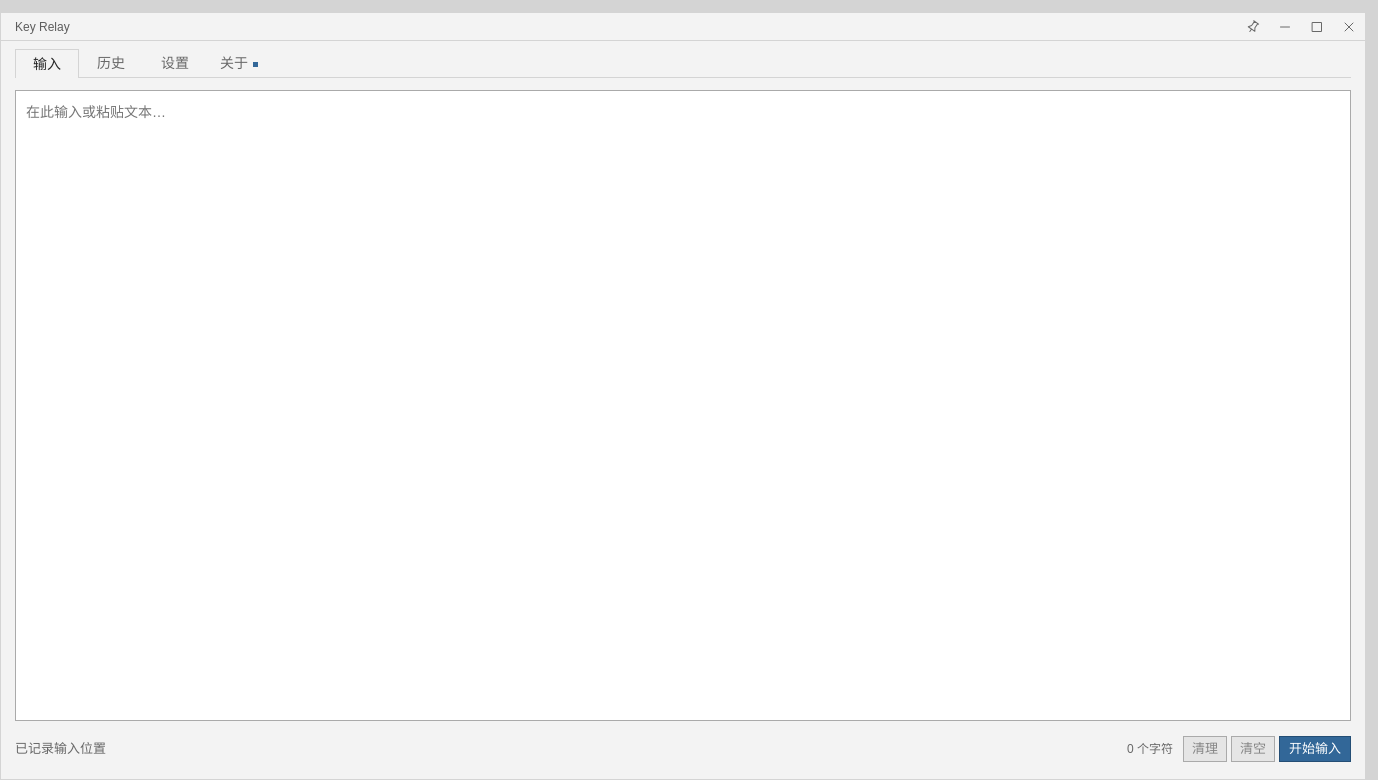
Test: editor and native task integration › stops installation if valid settings cannot be persisted
Expected: the button "开始输入" is enabled, [1279, 736, 1351, 762]
Click the tab "关于" at x=239, y=63, box [207, 49, 271, 77]
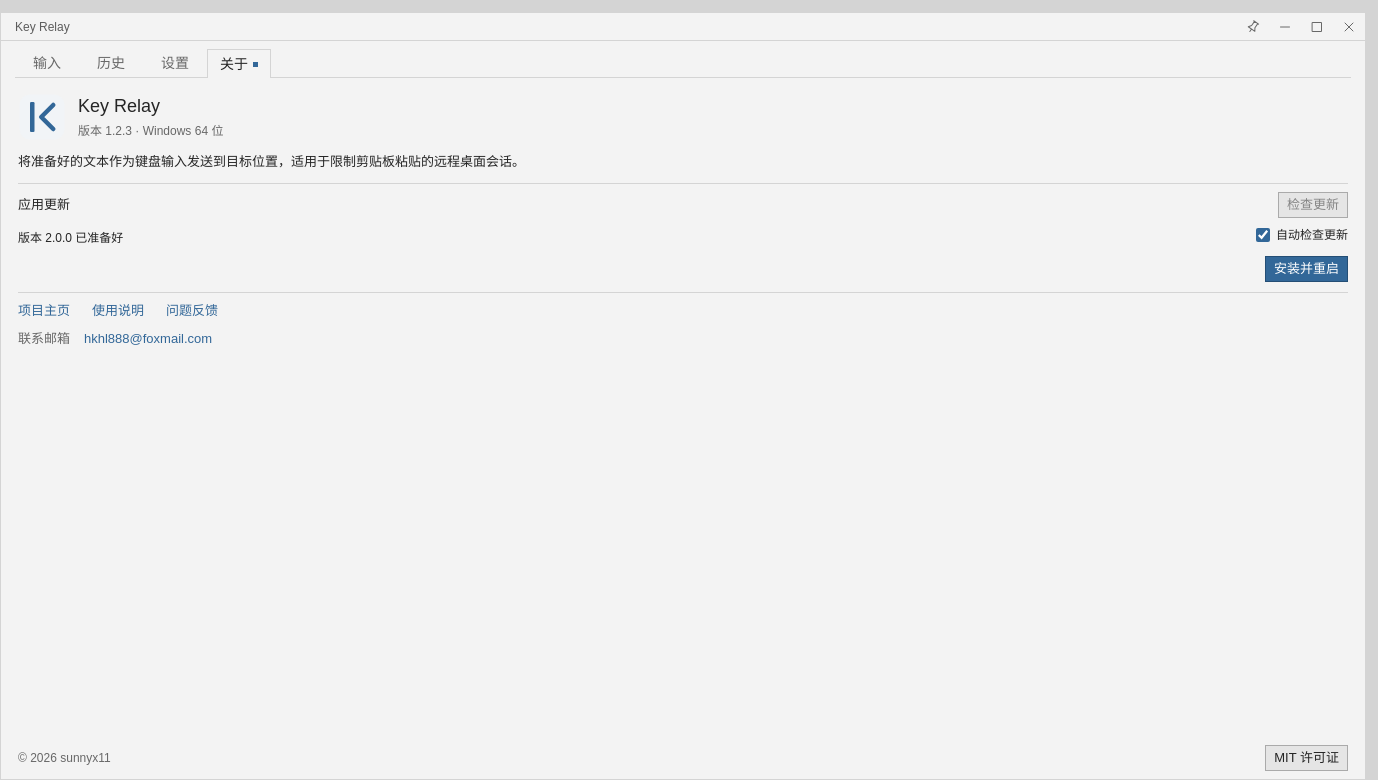
Click the button "安装并重启" at x=1306, y=270, box [1265, 256, 1348, 282]
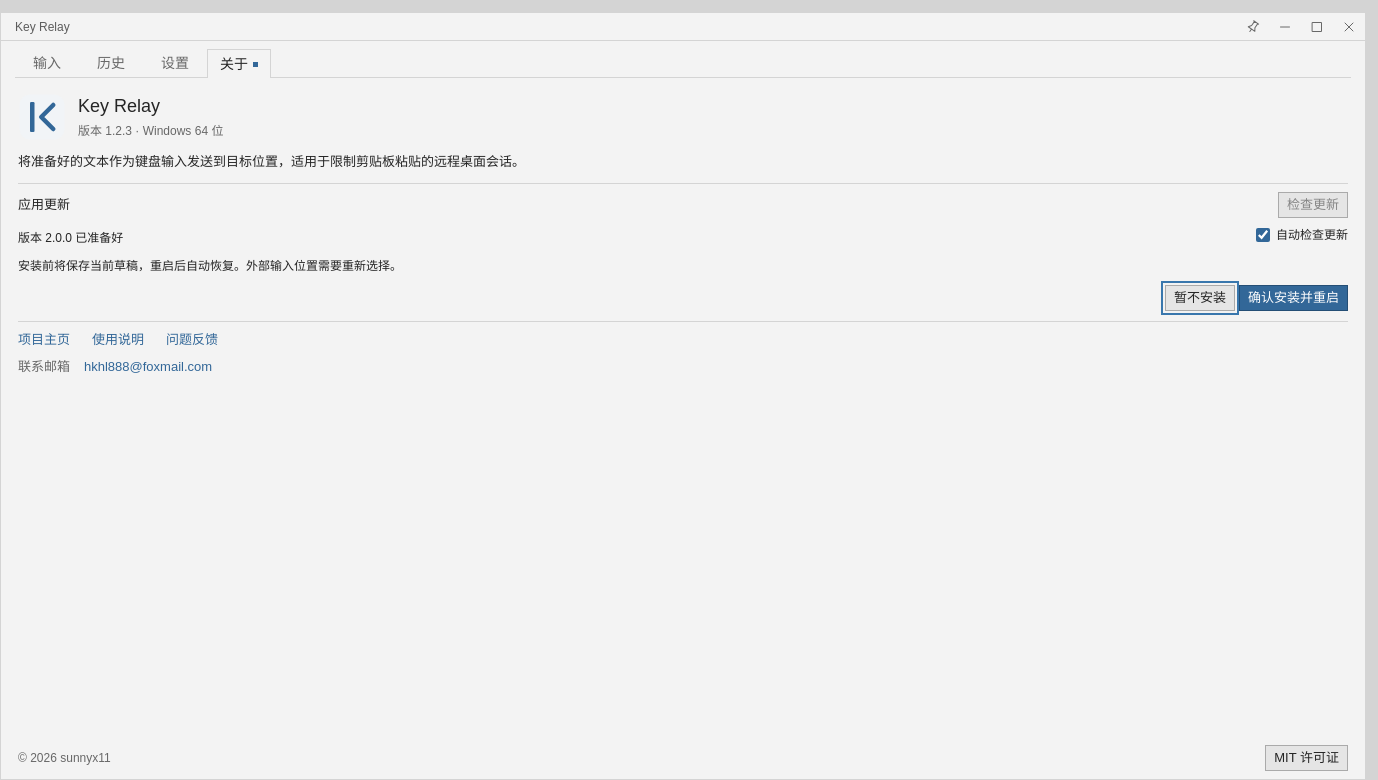
Click the button "确认安装并重启" at x=1294, y=298, box [1239, 285, 1348, 311]
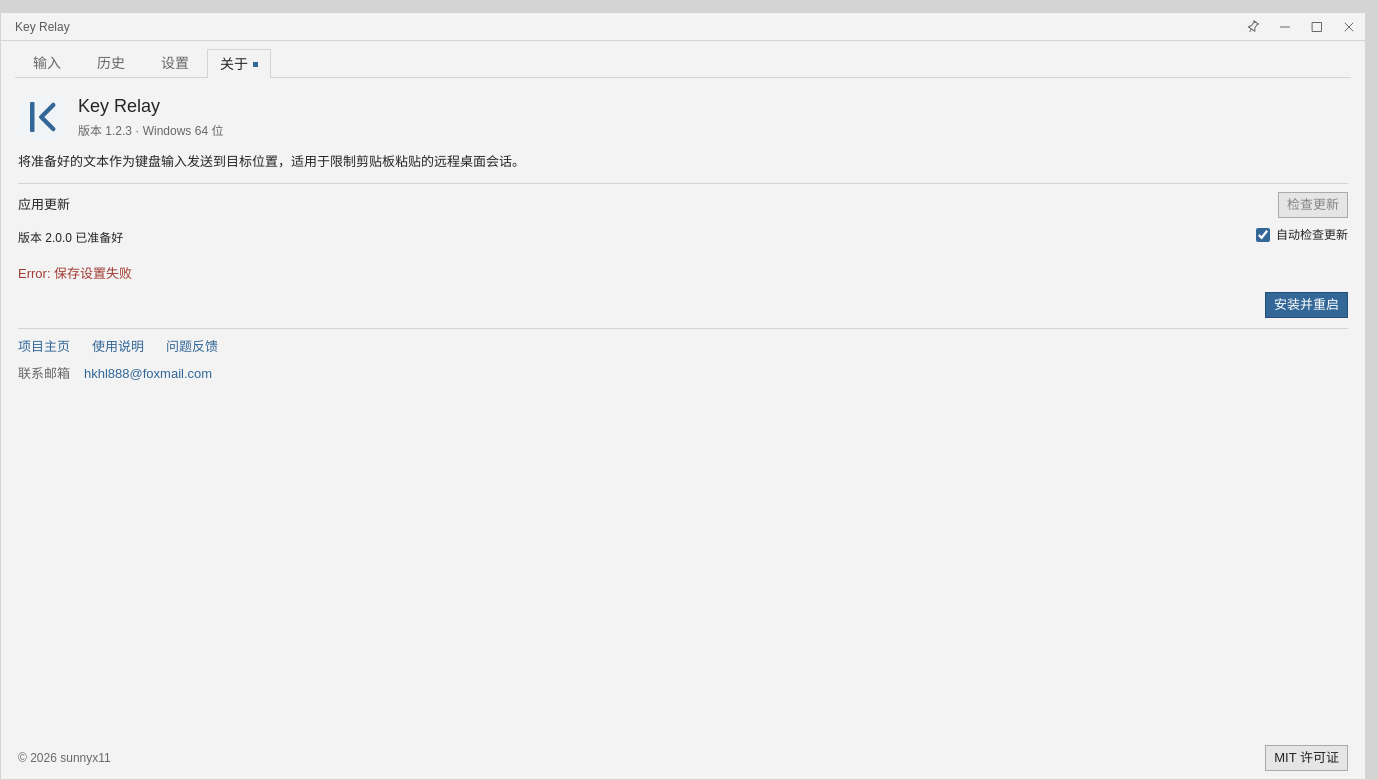
Expected: the element "应用更新" shows "Error: 保存设置失败", [18, 266, 132, 282]
